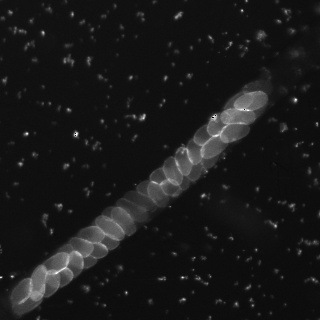embryo: (116, 198, 148, 221), (124, 190, 158, 211), (233, 91, 268, 111), (112, 208, 137, 235), (219, 122, 251, 143), (97, 216, 126, 239), (225, 91, 254, 114), (201, 135, 229, 158), (207, 112, 233, 136), (15, 292, 43, 314), (30, 265, 47, 301), (163, 156, 183, 186), (221, 108, 256, 125), (147, 182, 170, 207), (43, 252, 69, 274), (102, 207, 132, 225), (65, 250, 84, 278), (69, 237, 94, 258), (12, 278, 33, 303), (186, 138, 205, 165), (138, 181, 168, 198), (176, 147, 194, 175), (41, 270, 60, 296), (194, 124, 217, 145), (54, 244, 73, 269), (78, 226, 104, 244), (243, 80, 272, 96), (95, 232, 119, 250), (84, 242, 108, 259), (72, 253, 97, 268), (55, 268, 73, 288), (161, 178, 181, 196), (150, 168, 171, 185), (188, 161, 203, 180), (201, 153, 218, 168), (179, 174, 190, 190)
